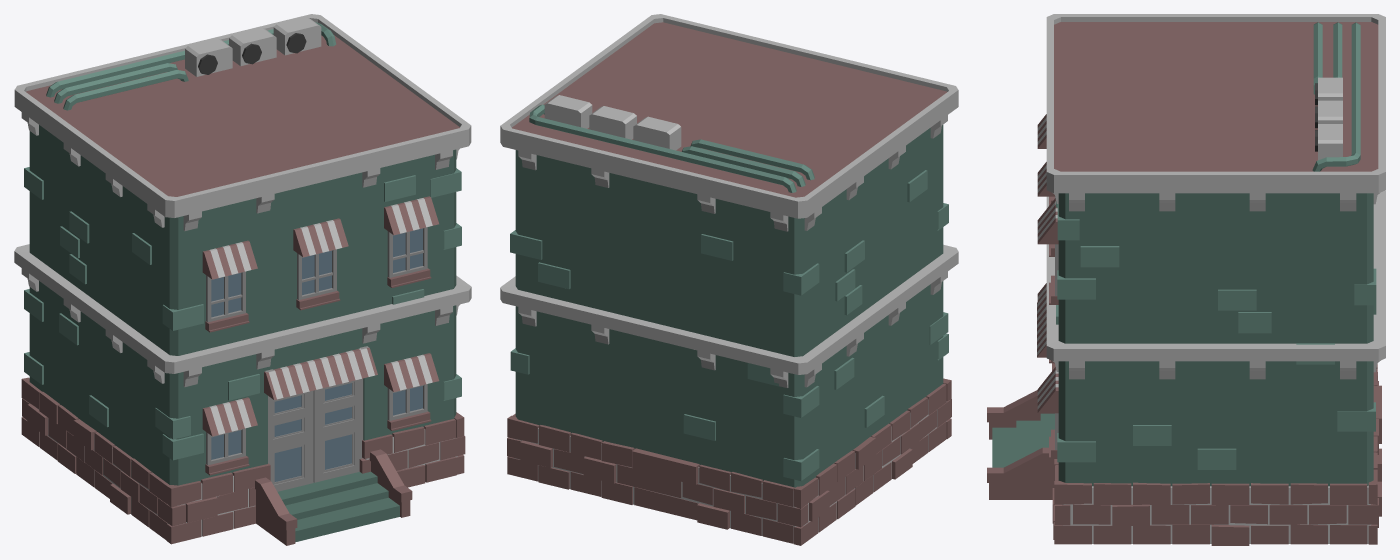
File: 2Story_Double_Mat.glb
3 renders of one model, left to right at view 1: azimuth 30°, elevation 25°; view 2: azimuth 150°, elevation 25°; view 3: azimuth 270°, elevation 25°, orthographic. The views are drawn at different scales.
Visible parts, largest first — view 1: 2Story_Double_Mat; view 2: 2Story_Double_Mat; view 3: 2Story_Double_Mat.
Part boxes in pixels (bbox=[...]): 2Story_Double_Mat: bbox=[14, 14, 471, 545]; 2Story_Double_Mat: bbox=[500, 14, 958, 545]; 2Story_Double_Mat: bbox=[987, 14, 1385, 545].
Bounding box in the file's own units: 2.42 × 2.75 × 2.53.
